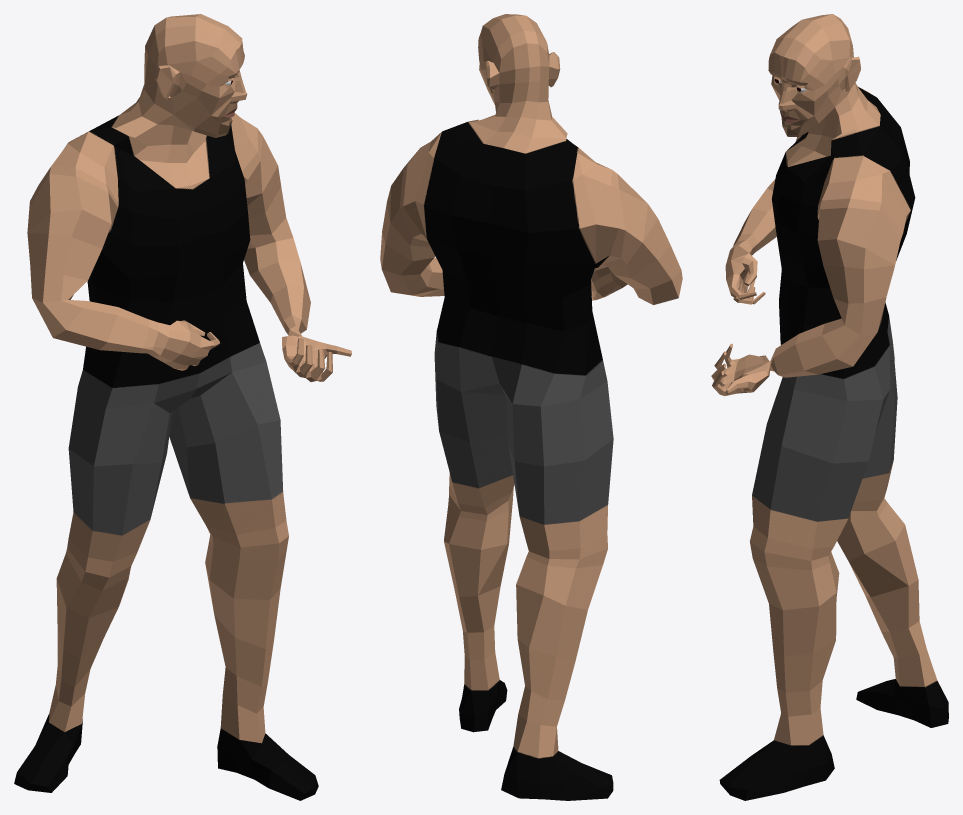
File: PlayerIdle(127).obj
3 views of the same model, side by side, from view 1: azimuth 30°, elevation 25°; view 2: azimuth 150°, elevation 25°; view 3: azimuth 270°, elevation 25° (orthographic). The views are drawn at different scales.
Visible parts, largest first — view 1: Plane002; view 2: Plane002; view 3: Plane002.
Part boxes in pixels (bbox=[...]): Plane002: bbox=[14, 14, 351, 800]; Plane002: bbox=[380, 14, 682, 800]; Plane002: bbox=[711, 14, 948, 800].
Size of the model in its own units: 698 by 1797 by 523.
